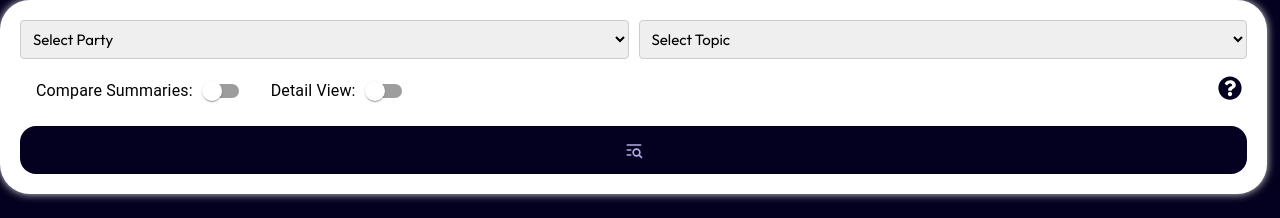
Test: Searchbar - compare mode toggle › reveals a second party dropdown when compare mode is switched on
Expected: the number of dropdowns is 2, [20,20,629,59]; [639,20,1247,59]
Click the switch labelled "Compare Summaries:" at (137, 91), box [36,81,239,101]
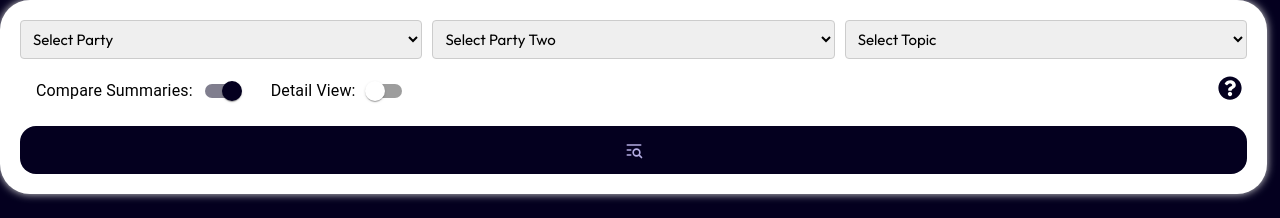
Now the number of dropdowns is 3, box [20,20,422,59]; [432,20,835,59]; [845,20,1247,59]
Now the 2nd dropdown showing "Select Party Two" is shown, box [432,20,835,59]
